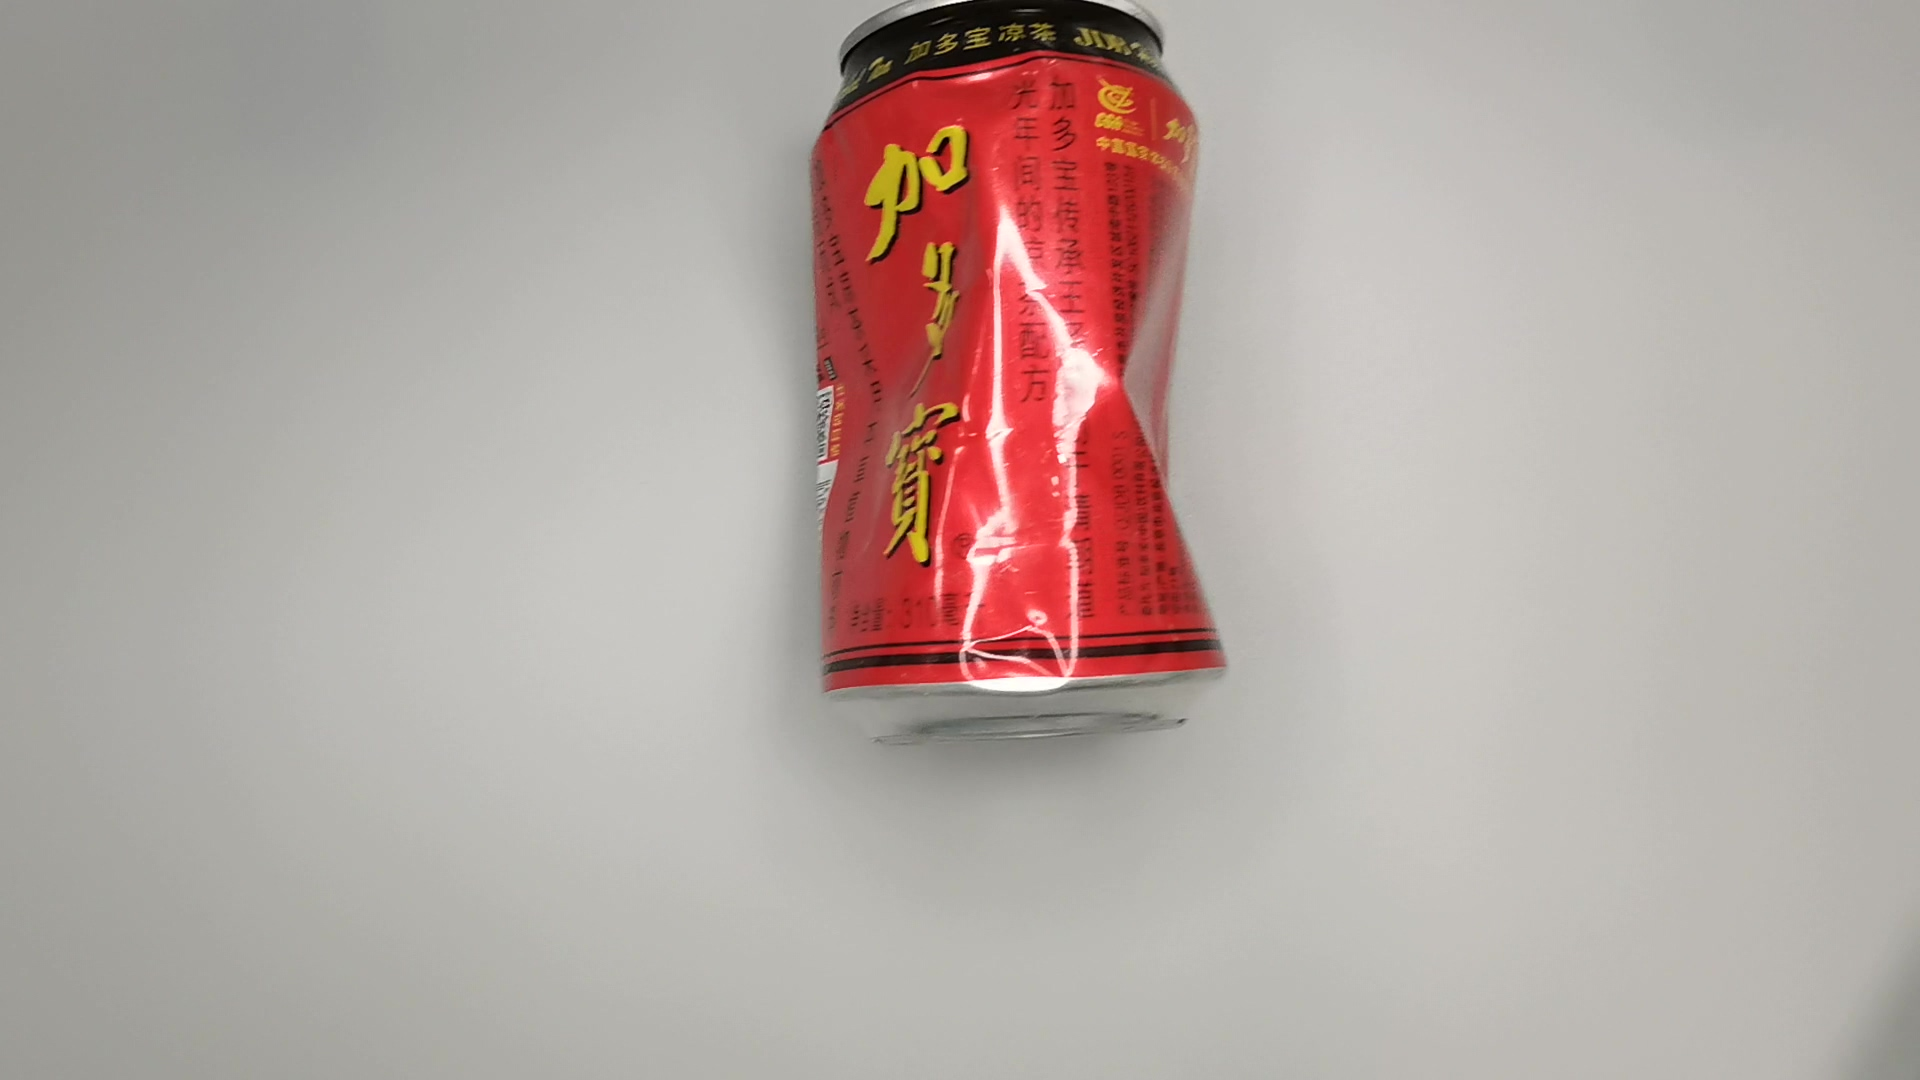can: (810, 1, 1241, 775)
